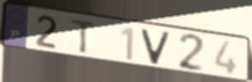1: (120, 26, 136, 62)
2: (177, 32, 207, 74), (34, 14, 60, 51)
4: (212, 39, 242, 77)
T: (70, 18, 98, 55)
V: (139, 28, 173, 67)
